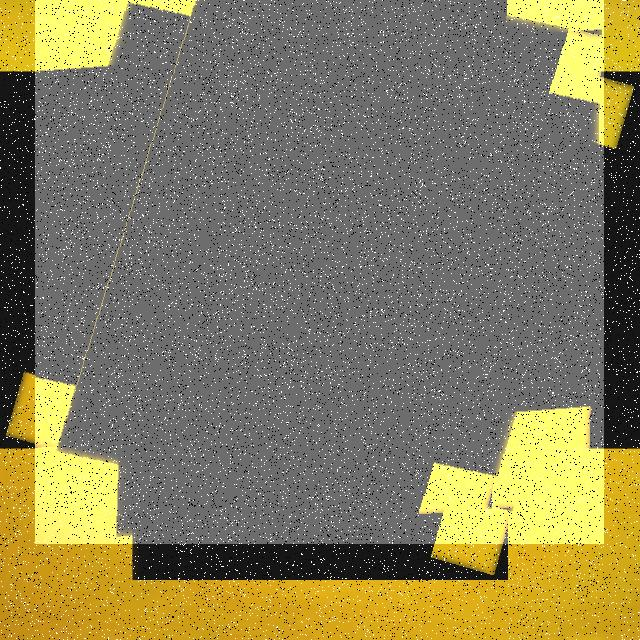lima puluh ribu rupiah: (35, 0, 604, 544)
